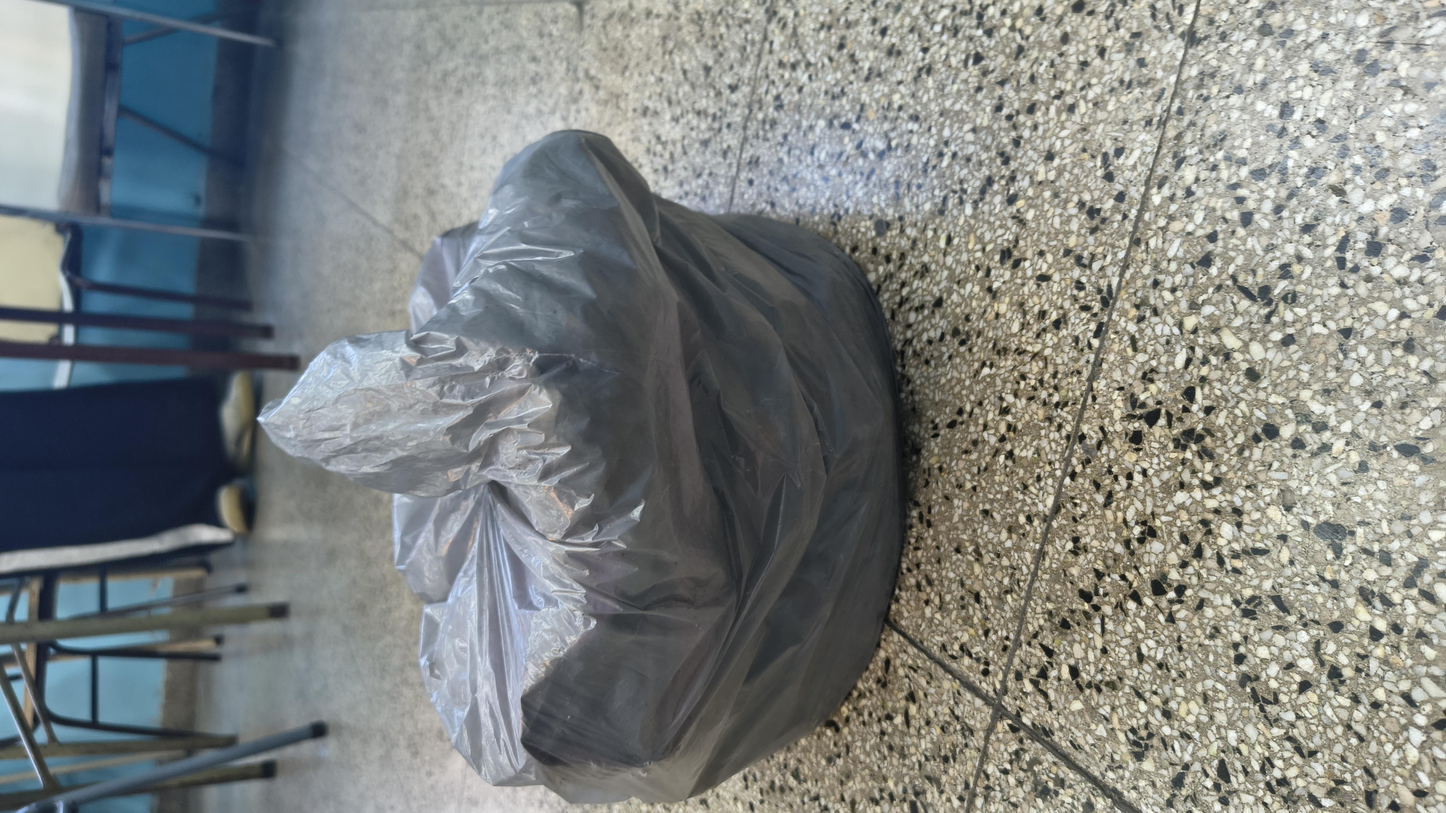Garbage: (13, 139, 1293, 532)
